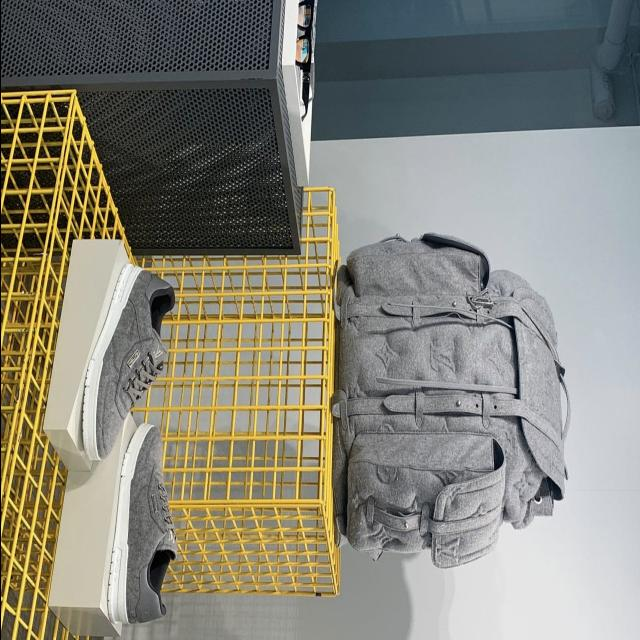backpack: (331, 233, 572, 569)
